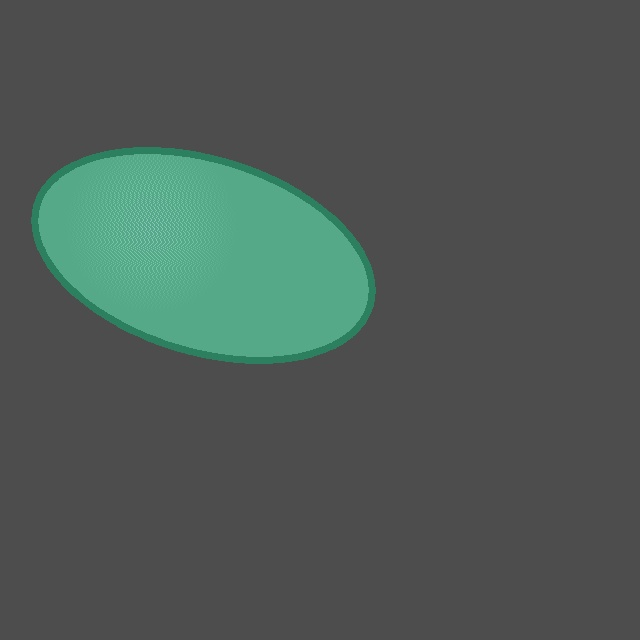lens: (35, 150, 371, 360)
